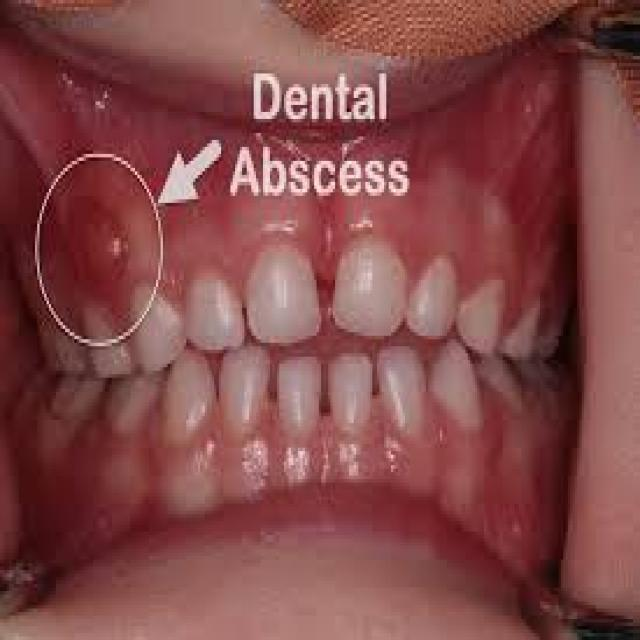abscess: (49, 188, 144, 321)
